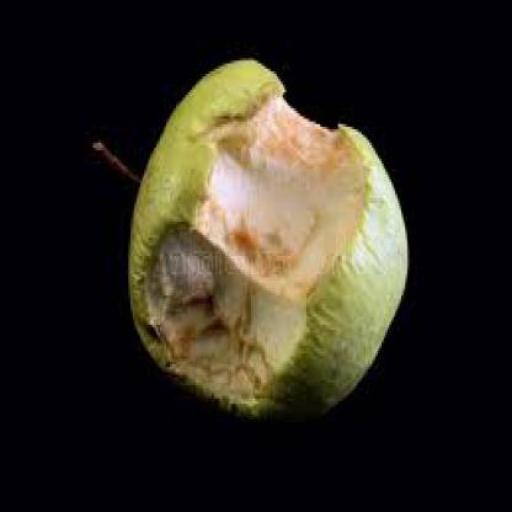biodegradable: (97, 53, 409, 417)
